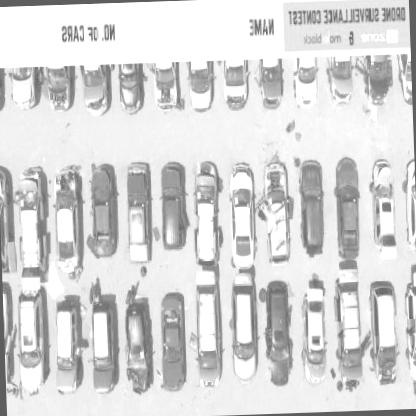car: (17, 173, 51, 278), (14, 292, 48, 395), (53, 170, 84, 274), (263, 283, 294, 386), (300, 286, 330, 386), (263, 166, 292, 269), (230, 162, 257, 272), (158, 293, 188, 392), (88, 162, 119, 257), (90, 297, 118, 398), (338, 272, 362, 388), (191, 170, 221, 262), (124, 293, 150, 397), (372, 278, 398, 380), (158, 162, 188, 250), (370, 166, 400, 254), (230, 290, 258, 384), (126, 163, 152, 264), (296, 164, 324, 256), (333, 171, 363, 256), (54, 306, 82, 394), (194, 292, 220, 386), (80, 64, 111, 116), (186, 60, 214, 112), (0, 165, 13, 276), (364, 57, 394, 104), (221, 60, 249, 110), (44, 66, 74, 112), (118, 63, 145, 114), (328, 55, 354, 106), (153, 64, 180, 113), (258, 58, 284, 108), (404, 272, 415, 388), (292, 57, 318, 106), (9, 66, 35, 109), (403, 160, 415, 253), (400, 54, 412, 106)
